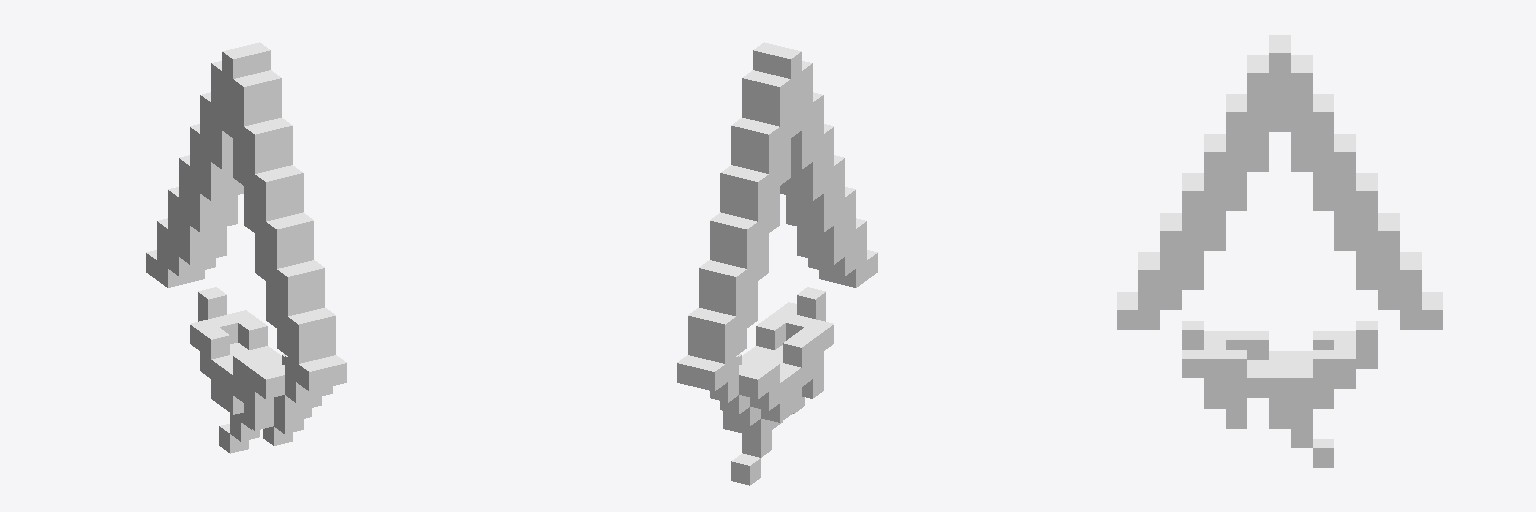
The model's file is vox-1.obj.
The picture shows the model from 3 angles: view 1: azimuth 30°, elevation 25°; view 2: azimuth 150°, elevation 25°; view 3: azimuth 270°, elevation 25°; orthographic projection.
Bounding box in the file's own units: 0.3 × 2.1 × 1.5.